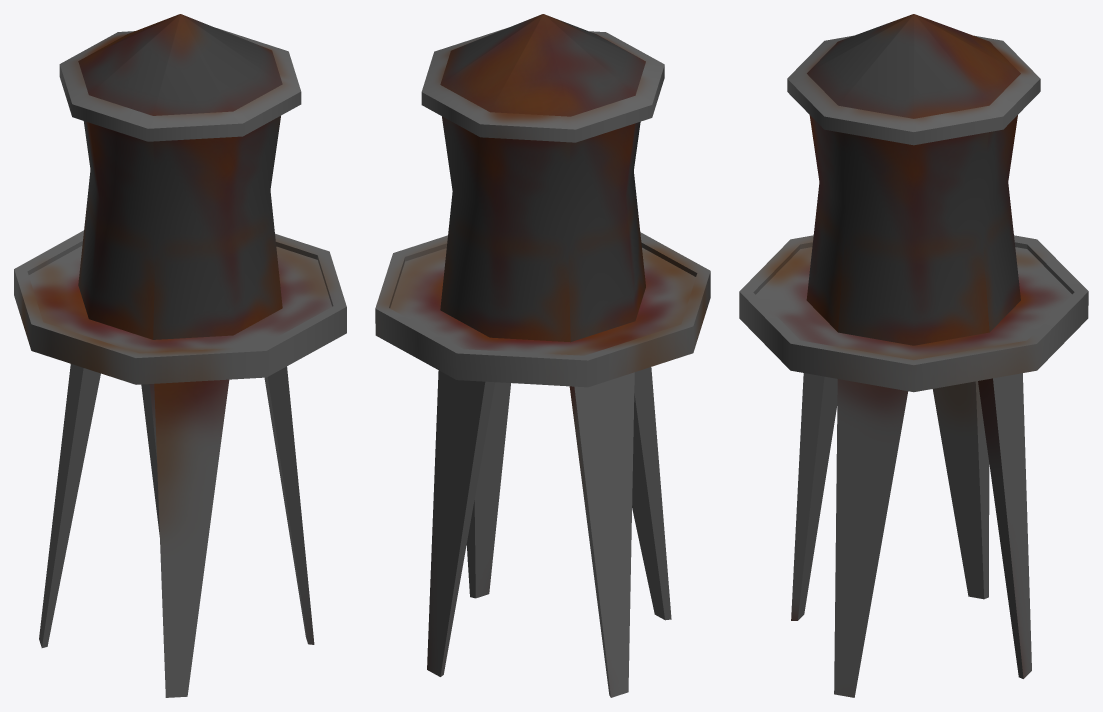
File: Unwrapped_WatchWater.fbx
The picture shows the model from 3 angles, left to right: view 1: azimuth 30°, elevation 25°; view 2: azimuth 150°, elevation 25°; view 3: azimuth 270°, elevation 25°; orthographic projection.
Visible parts, largest first — view 1: Cylinder001; view 2: Cylinder001; view 3: Cylinder001.
Part boxes in pixels (x1,y1,x2,y2): Cylinder001: [14, 14, 346, 697]; Cylinder001: [375, 14, 710, 697]; Cylinder001: [739, 14, 1088, 697].
Size of the model in its own units: 439 by 881 by 440.
